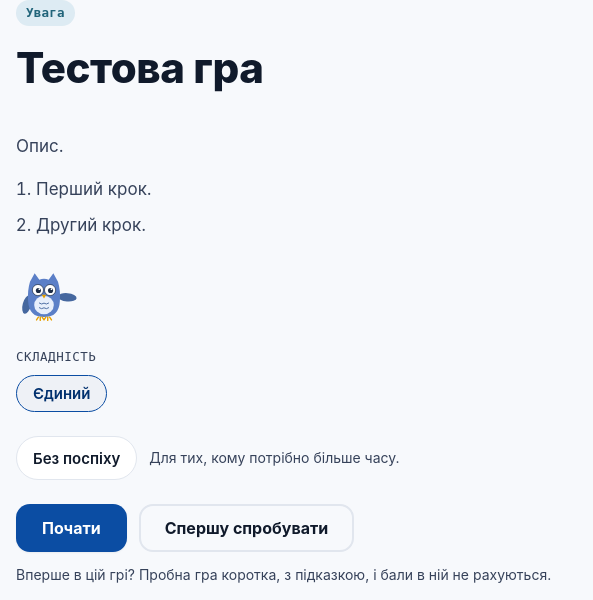
it: пробна гра › іде скороченим рівнем і з підказкою правила
What coordinates should you click on to do the following:
click the button "Спершу спробувати"
I would click on:
 (246, 528)
Its box is [139,504,354,552].
Wait 2800 ms
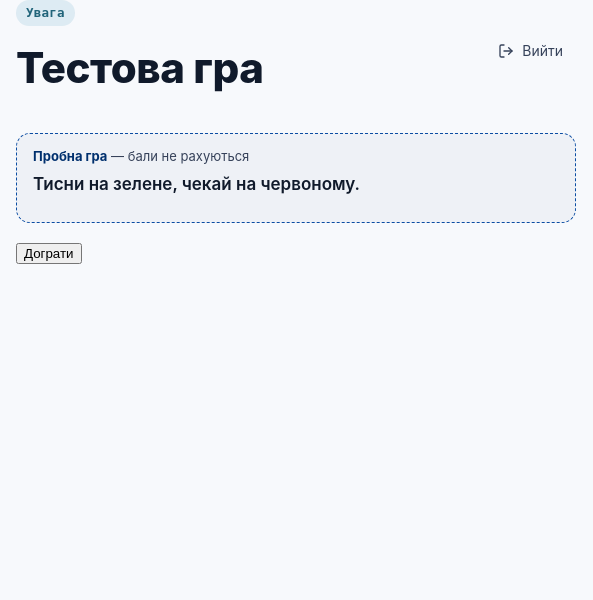
Expected: the text "Тисни на зелене, чекай на червоному." is shown, [33,174,360,194]
Expected: the text "Пробна гра — бали не рахуються" is shown, [33,148,249,164]
